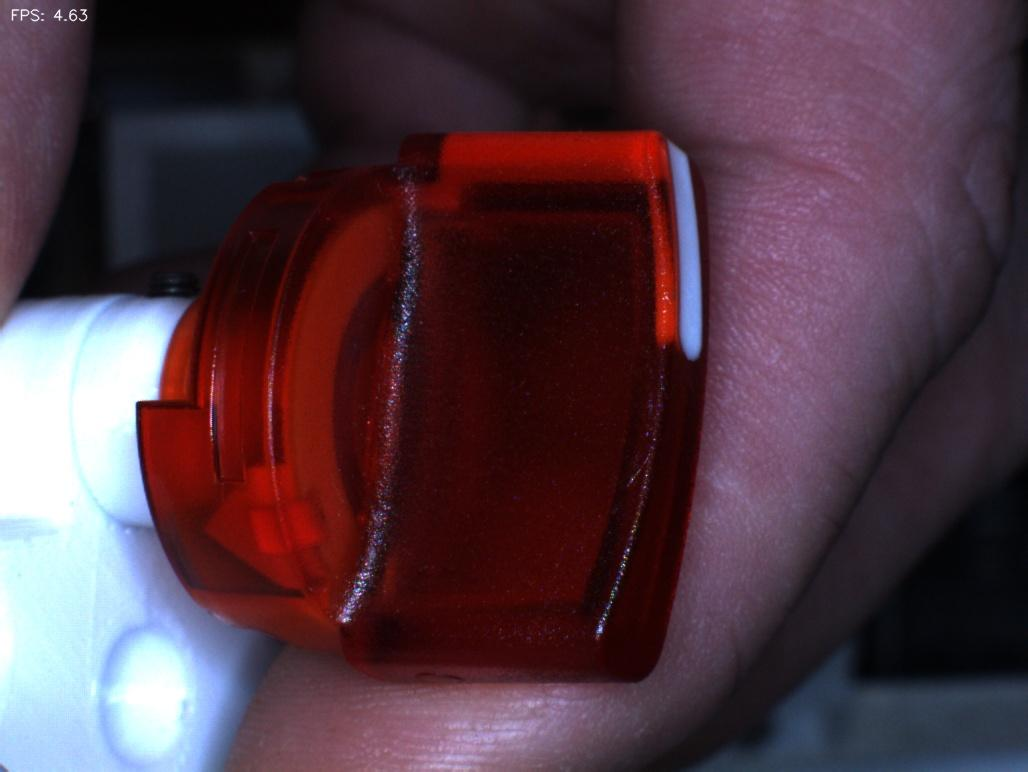Givrage: (608, 393, 675, 507)
